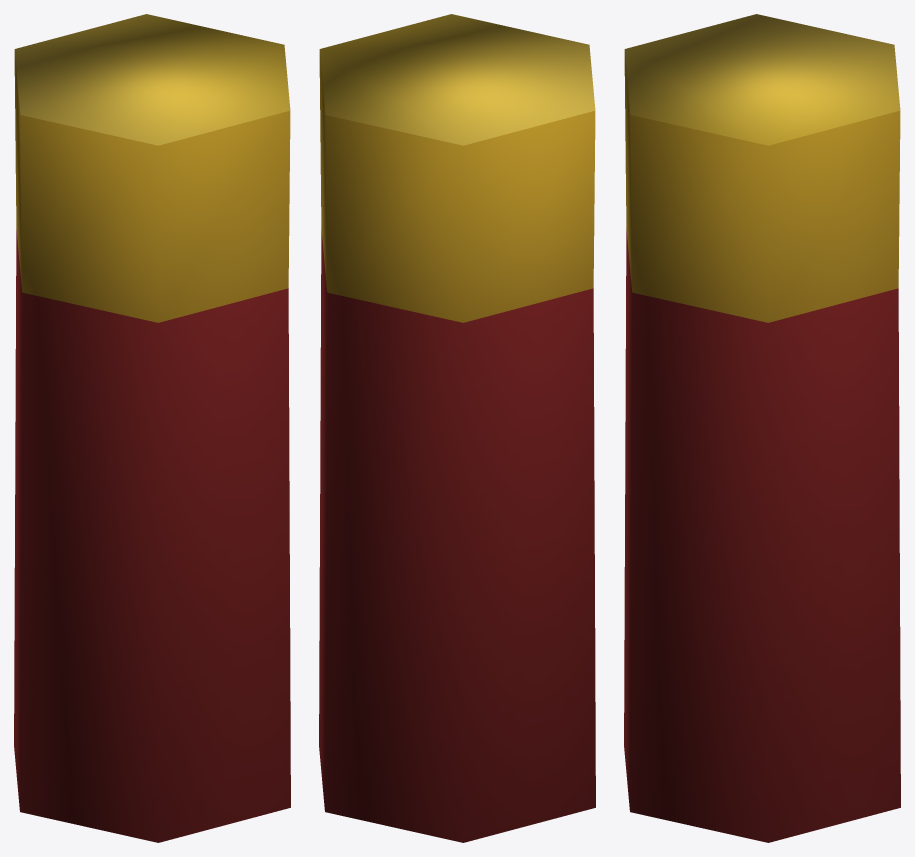
The model's file is Shotgun_Bullet.fbx.
3 renders of one model, left to right at view 1: azimuth 30°, elevation 25°; view 2: azimuth 150°, elevation 25°; view 3: azimuth 270°, elevation 25°, orthographic.
Parts seen in each view (by area): view 1: Shotgun_Bullet; view 2: Shotgun_Bullet; view 3: Shotgun_Bullet.
Part boxes in pixels (x1=…): Shotgun_Bullet: x1=14, y1=14, x2=290, y2=842; Shotgun_Bullet: x1=319, y1=14, x2=595, y2=842; Shotgun_Bullet: x1=624, y1=14, x2=900, y2=842.
Size of the model in its own units: 8.08 by 19.85 by 7.15.
